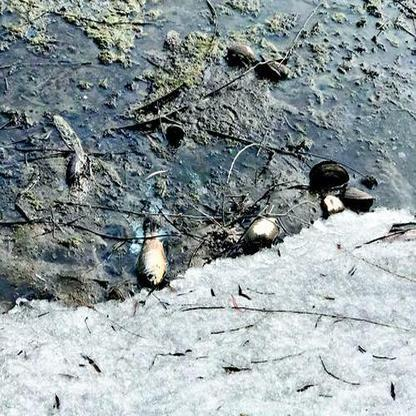deceased fish: (133, 220, 170, 287)
